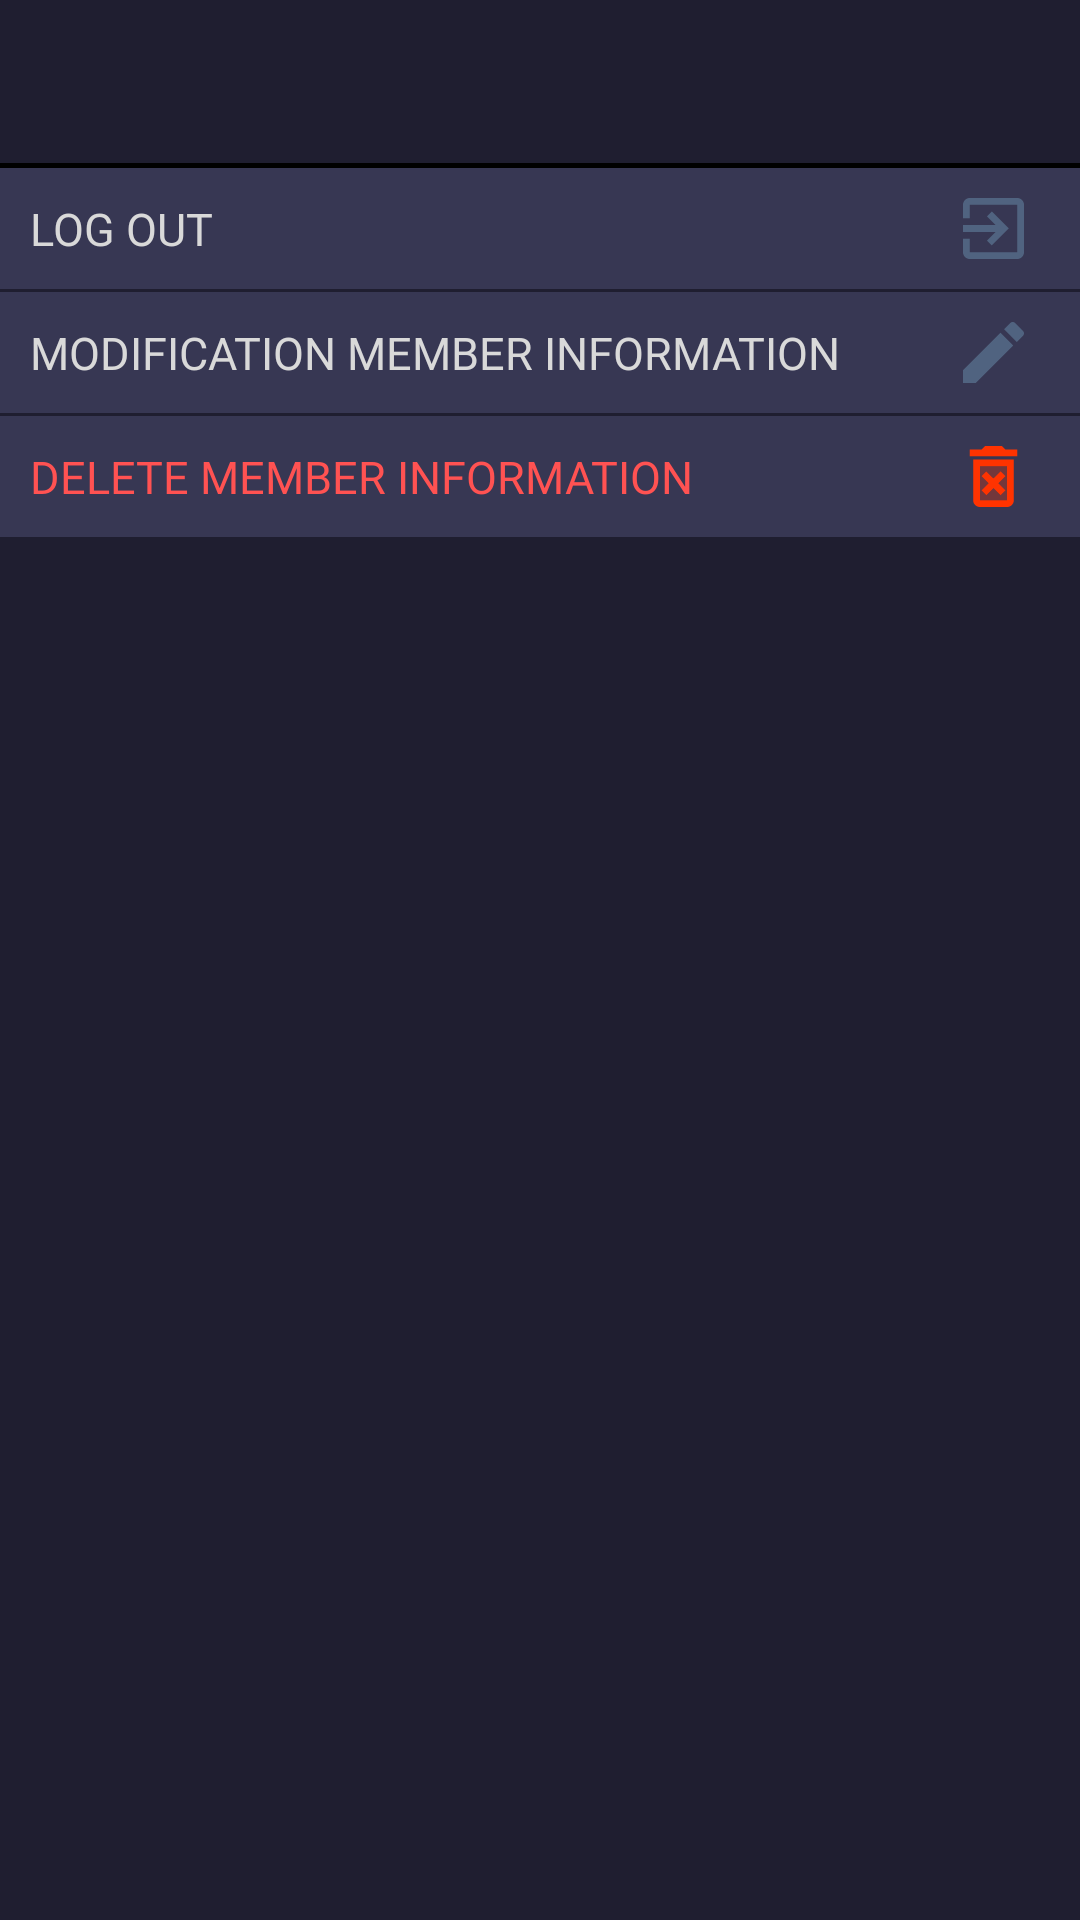

Locate icon controls on the screen. Image size 1080*1920, boxes as (x1, y1, x2, y2).
edit: (963, 322, 1024, 383)
exit: (963, 198, 1024, 259)
